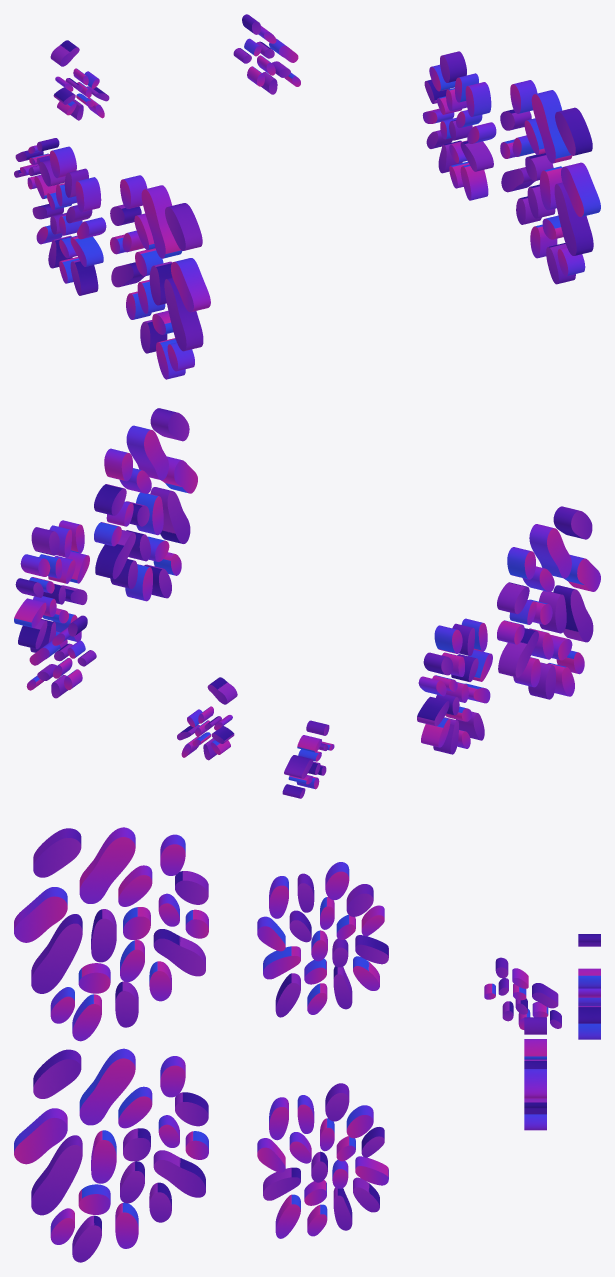
File: cristales_bacterias_2.glb
3 renders of one model, top to bottom at view 1: azimuth 30°, elevation 25°; view 2: azimuth 150°, elevation 25°; view 3: azimuth 270°, elevation 25°, orthographic. The views are drawn at different scales.
Visible parts, largest first — view 1: Objeto_144, Objeto_39, Objeto_40, Objeto_143, Objeto_142, Objeto_41, Objeto_140, Objeto_43, Objeto_60, Objeto_123, Objeto_125, Objeto_58 (+23 smaller); view 2: Objeto_144, Objeto_39, Objeto_143, Objeto_40, Objeto_42, Objeto_141, Objeto_140, Objeto_43, Objeto_41, Objeto_142, Objeto_139, Objeto_44 (+22 smaller); view 3: Objeto_144, Objeto_39, Objeto_143, Objeto_40, Objeto_142, Objeto_41, Objeto_43, Objeto_140, Objeto_141, Objeto_42, Objeto_139, Objeto_44 (+45 smaller).
Boxes of the visible parts, x1,y1,x2,y2 form: Objeto_144: [531, 90, 572, 163]; Objeto_39: [141, 185, 182, 258]; Objeto_40: [164, 277, 203, 351]; Objeto_143: [554, 182, 593, 255]; Objeto_142: [561, 162, 600, 216]; Objeto_41: [170, 258, 210, 312]; Objeto_140: [555, 107, 592, 155]; Objeto_43: [165, 203, 202, 250]; Objeto_60: [75, 177, 101, 212]; Objeto_123: [465, 82, 491, 116]; Objeto_125: [460, 164, 488, 200]; Objeto_58: [70, 259, 98, 295]; Objeto_144: [126, 425, 168, 480]; Objeto_39: [529, 524, 571, 578]; Objeto_143: [150, 487, 190, 543]; Objeto_40: [553, 585, 593, 642]; Objeto_42: [498, 628, 538, 677]; Objeto_141: [95, 530, 135, 579]; Objeto_140: [150, 408, 189, 441]; Objeto_43: [553, 506, 592, 539]; Objeto_41: [564, 555, 600, 591]; Objeto_142: [161, 456, 197, 493]; Objeto_139: [136, 492, 163, 535]; Objeto_44: [539, 591, 566, 633]; Objeto_144: [79, 1048, 135, 1125]; Objeto_39: [79, 827, 135, 903]; Objeto_143: [31, 1135, 82, 1215]; Objeto_40: [31, 914, 82, 993]; Objeto_142: [14, 1108, 67, 1164]; Objeto_41: [14, 887, 67, 942]; Objeto_43: [33, 828, 81, 877]; Objeto_140: [33, 1049, 81, 1098]; Objeto_141: [153, 1150, 205, 1197]; Objeto_42: [153, 929, 205, 976]; Objeto_139: [91, 1130, 116, 1183]; Objeto_44: [91, 909, 116, 962].
Bounding box in the file's own units: 16.11 × 6.64 × 17.31.
2 materials, 2 textured.
